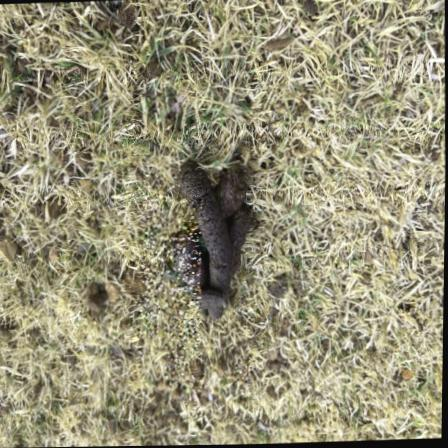dog-poop: (165, 170, 268, 326)
